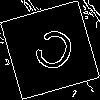C: (25, 25, 79, 83)
